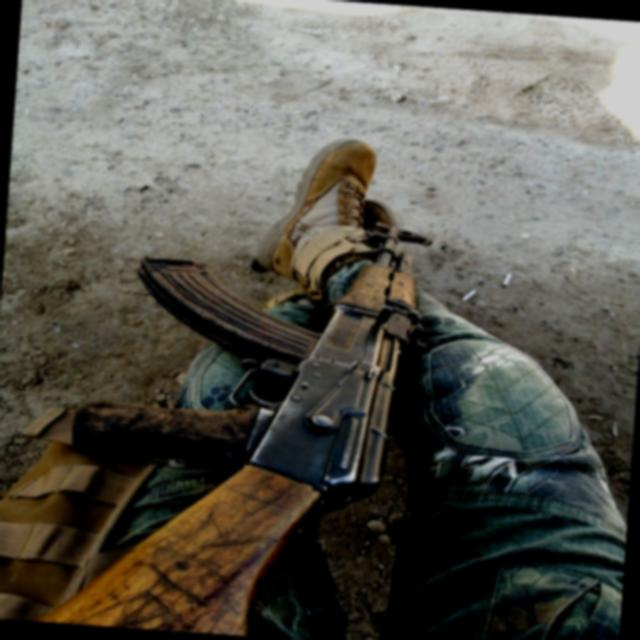ak: (41, 195, 430, 640)
